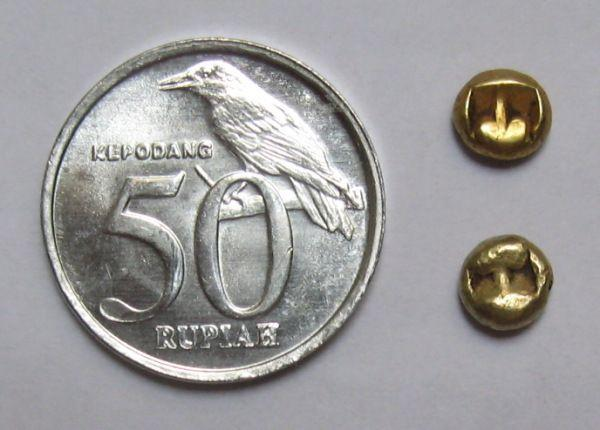coin_50_1999: (44, 34, 387, 387)
